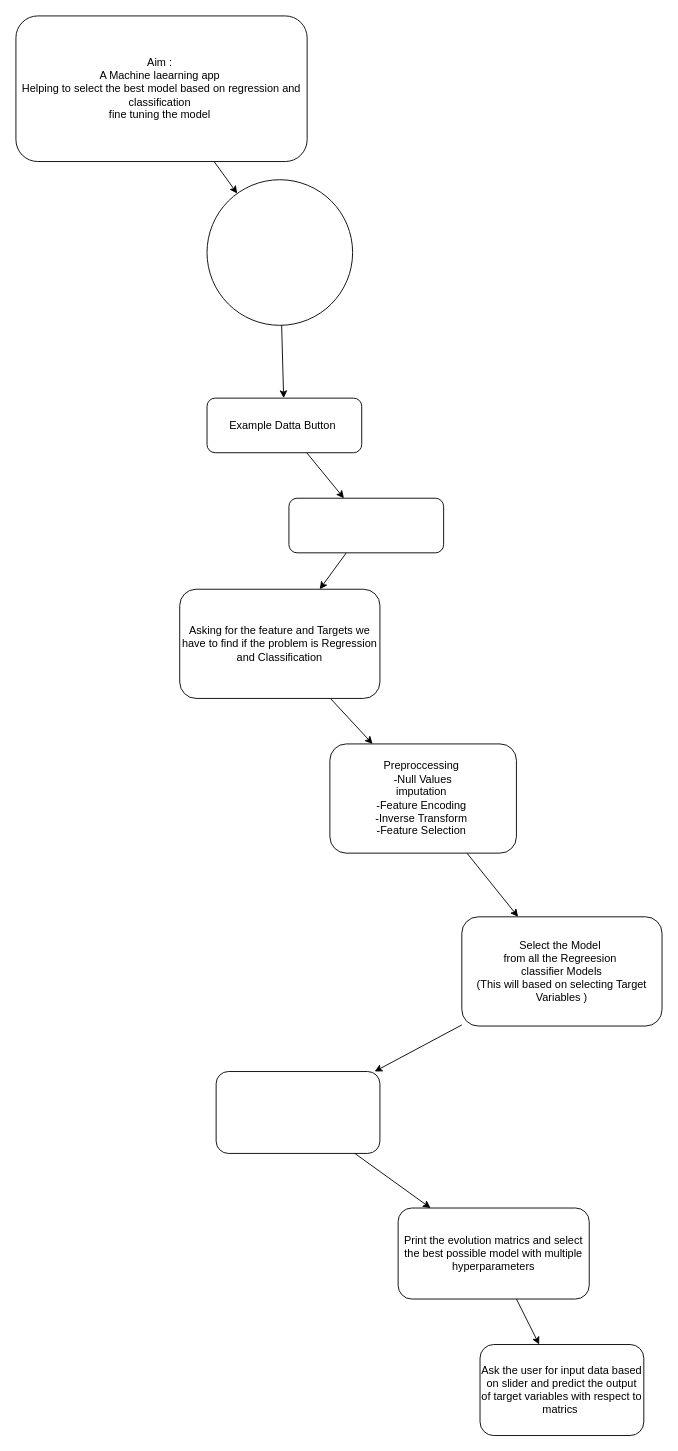
This 678x1451 diagram has some shape labels left out. The shapes that lost their labels are listed below. From the top down, each one's centre as x and y in pixels, then its label:
At (279,252): "Load the Data and Upload the Data".
At (366,525): "Check the column name and data Types".
At (297,1112): "Add the Evoltion Matrix Based on Problem".
